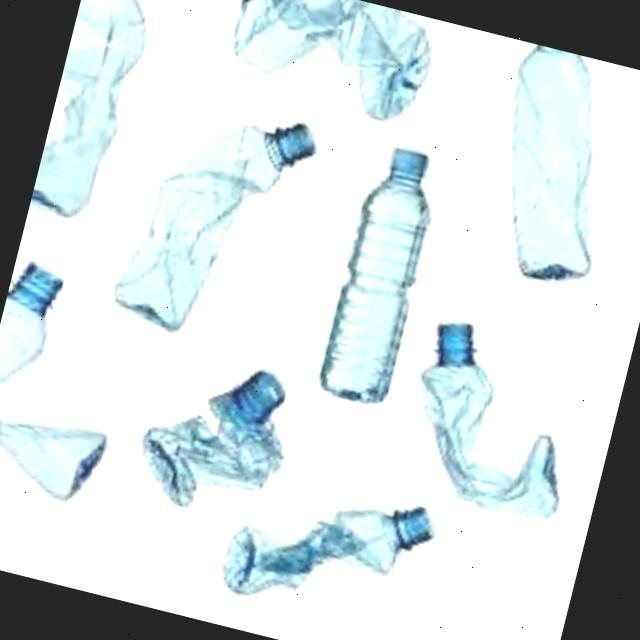trash: (108, 72, 330, 361), (378, 291, 612, 548), (448, 36, 640, 306), (201, 438, 455, 640), (293, 124, 457, 426), (0, 248, 158, 516), (120, 338, 304, 534), (26, 0, 177, 237), (193, 0, 441, 133)
